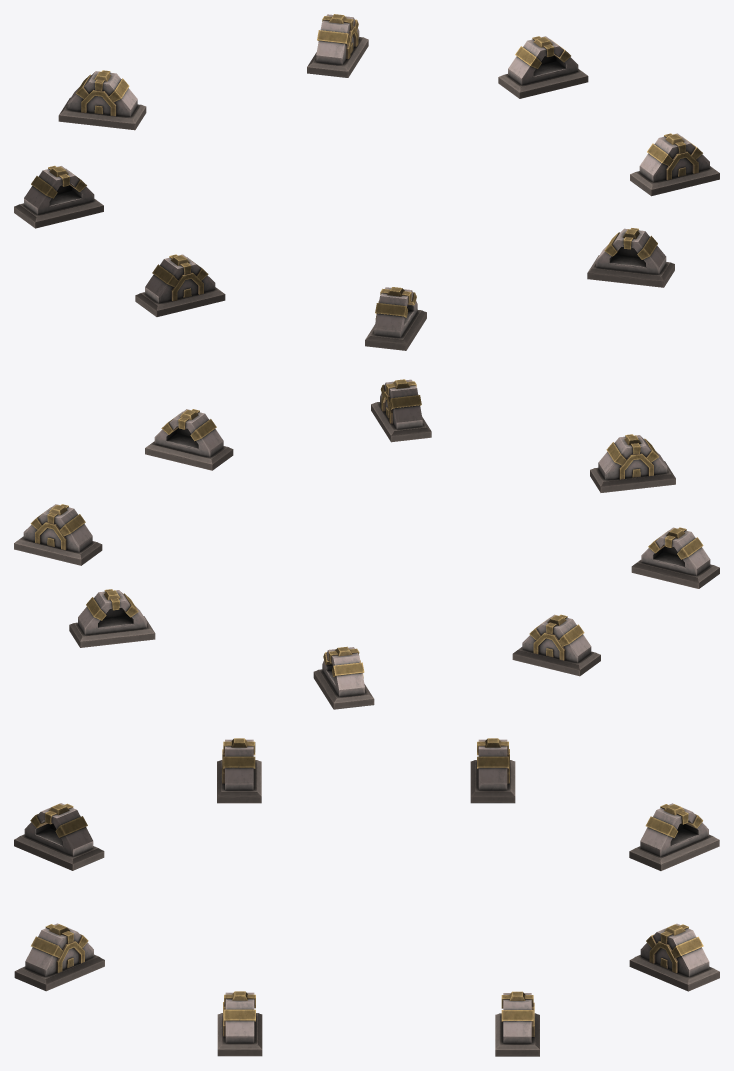
File: laserNew.fbx
3 renders of one model, top to bottom at view 1: azimuth 30°, elevation 25°; view 2: azimuth 150°, elevation 25°; view 3: azimuth 270°, elevation 25°, orthographic. The views are drawn at different scales.
Visible parts, largest first — view 1: laser_mesh001, laser_mesh005, laser_mesh007, laser_mesh004, laser_mesh, laser_mesh003, laser_mesh006, laser_mesh002; view 2: laser_mesh006, laser_mesh002, laser_mesh003, laser_mesh, laser_mesh007, laser_mesh004, laser_mesh001, laser_mesh005; view 3: laser_mesh002, laser_mesh005, laser_mesh001, laser_mesh006, laser_mesh, laser_mesh004, laser_mesh007, laser_mesh003.
Part boxes in pixels (x1,y1,x2,y2): laser_mesh001: (58,70,146,130); laser_mesh005: (587,228,674,287); laser_mesh007: (135,254,225,316); laser_mesh004: (630,133,719,196); laser_mesh: (14,165,103,228); laser_mesh003: (498,36,588,98); laser_mesh006: (365,287,426,350); laser_mesh002: (307,14,368,77); laser_mesh006: (590,434,675,492); laser_mesh002: (69,589,155,647); laser_mesh003: (14,504,102,565); laser_mesh: (512,614,600,676); laser_mesh007: (631,527,719,588); laser_mesh004: (145,409,233,470); laser_mesh001: (313,646,374,709); laser_mesh005: (371,379,431,442); laser_mesh002: (629,923,719,991); laser_mesh005: (14,923,104,991); laser_mesh001: (629,803,719,870); laser_mesh006: (14,803,104,870); laser_mesh: (470,738,515,803); laser_mesh004: (217,991,262,1056); laser_mesh007: (217,738,261,803); laser_mesh003: (495,991,539,1056).
Size of the model in its own units: 23.52 by 1.72 by 24.33.
